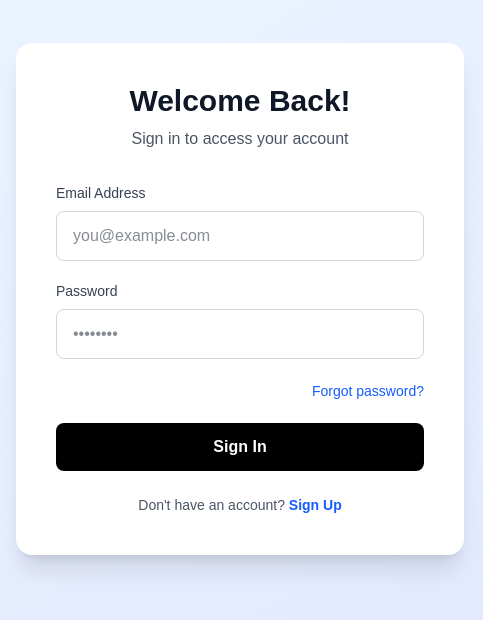
Test: Authentication Page › Form Toggle › should toggle between login and registration
Expected: the heading "Welcome Back!" is shown, [129,84,351,117]
Click the button "Sign Up" at (315, 505), box [289,495,342,515]
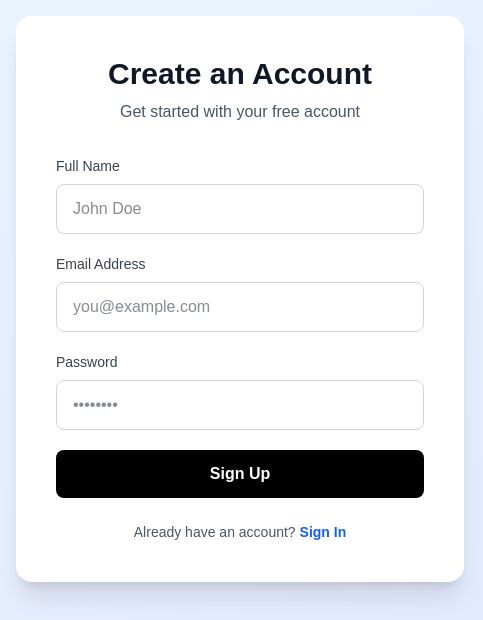
Now the heading "Create an Account" is shown, box [108,57,372,90]
Click the button "Sign In" at (323, 532), box [300,522,346,542]
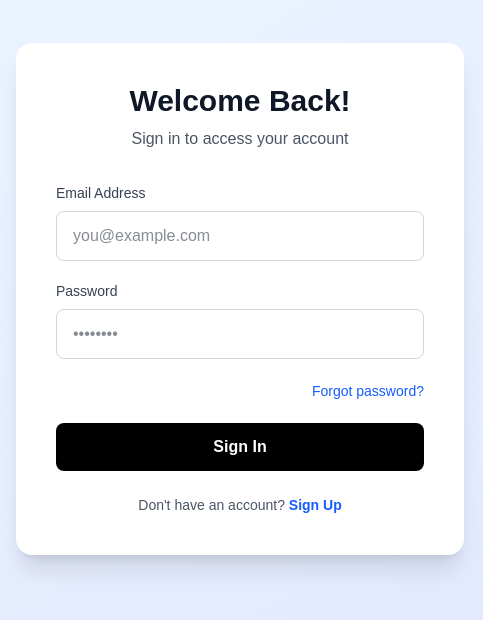
Now the heading "Welcome Back!" is shown, box [129,84,351,117]
